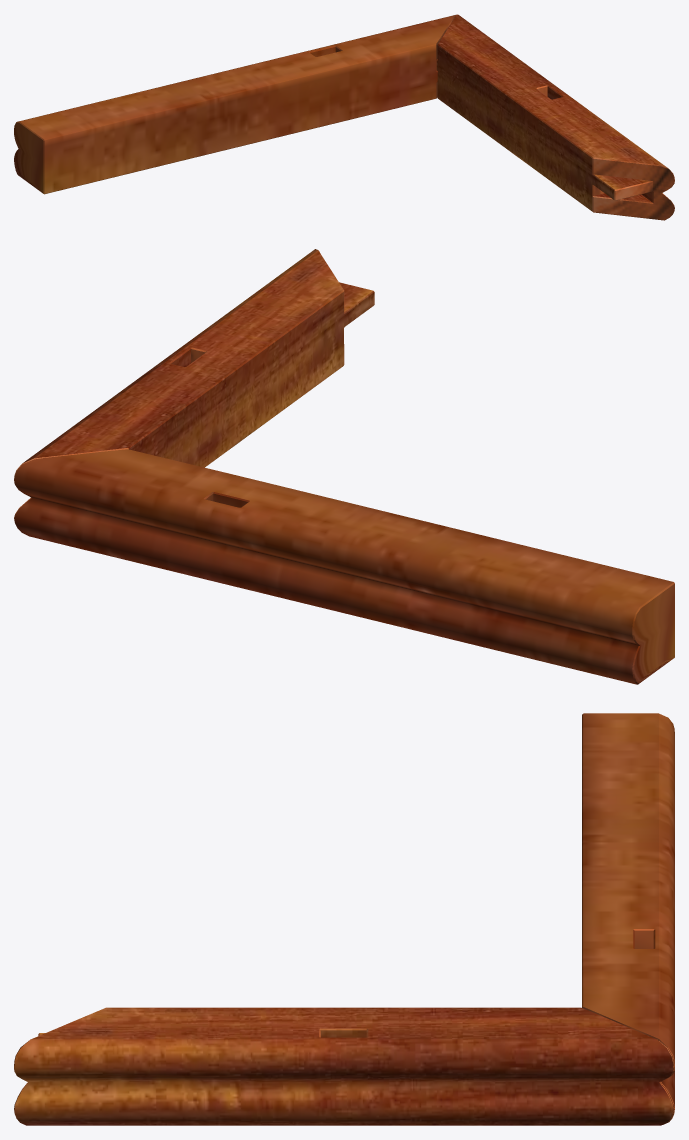
File: ytsy_J_H_hengzhangi_2.FBX
3 views of the same model, one above another, from view 1: azimuth 30°, elevation 25°; view 2: azimuth 150°, elevation 25°; view 3: azimuth 270°, elevation 25° (orthographic). The views are drawn at different scales.
Parts seen in each view (by area): view 1: ytsy_J_hengzhangi_2; view 2: ytsy_J_hengzhangi_2; view 3: ytsy_J_hengzhangi_2.
Part boxes in pixels (x1,y1,x2,y2): ytsy_J_hengzhangi_2: (14, 14, 674, 220); ytsy_J_hengzhangi_2: (14, 249, 674, 684); ytsy_J_hengzhangi_2: (14, 713, 674, 1125).
Bounding box in the file's own units: 33.99 × 4.01 × 28.47.
